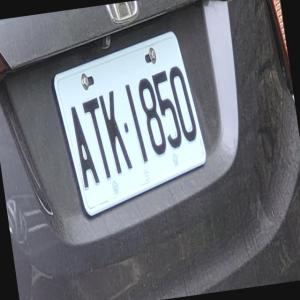Plate: (51, 28, 210, 223)
